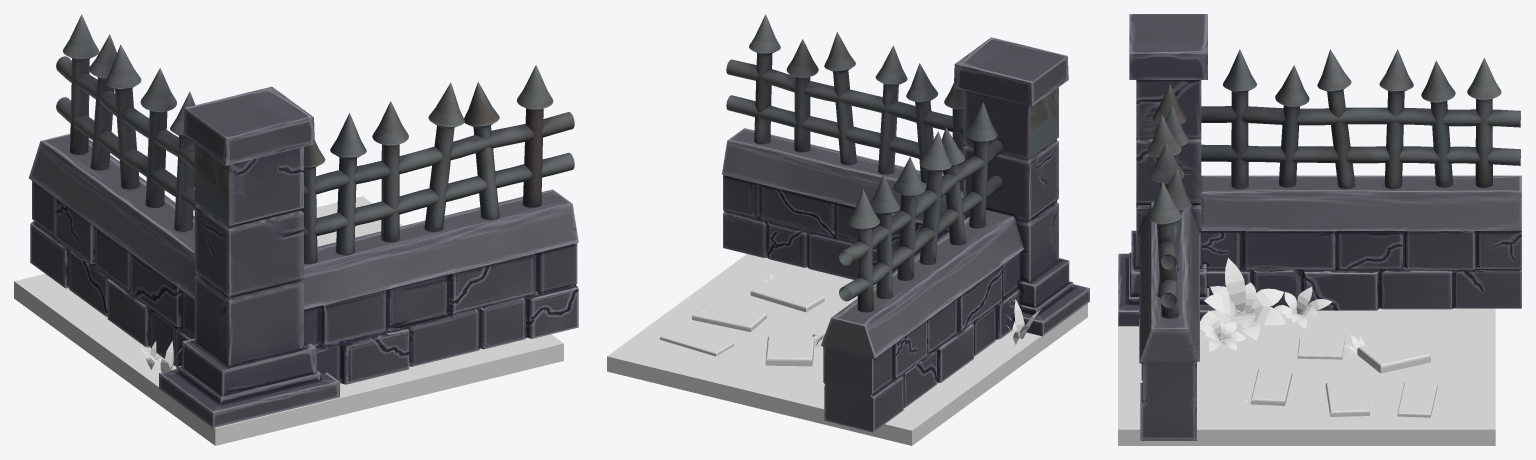
Rendered from GraveyardFenceCornerWithGroundFinal.fbx.
3 renders of one model, left to right at view 1: azimuth 30°, elevation 25°; view 2: azimuth 150°, elevation 25°; view 3: azimuth 270°, elevation 25°, orthographic. The views are drawn at different scales.
Parts seen in each view (by area): view 1: StoneFenceCorner_LP.001, CornerGround_LP; view 2: StoneFenceCorner_LP.001, CornerGround_LP; view 3: StoneFenceCorner_LP.001, CornerGround_LP.
Part boxes in pixels (x1,y1,x2,y2): StoneFenceCorner_LP.001: [29, 14, 578, 428]; CornerGround_LP: [14, 196, 563, 445]; StoneFenceCorner_LP.001: [722, 14, 1089, 432]; CornerGround_LP: [607, 254, 1087, 445]; StoneFenceCorner_LP.001: [1118, 14, 1521, 440]; CornerGround_LP: [1118, 258, 1495, 445].
Size of the model in its own units: 220 by 164 by 214.
